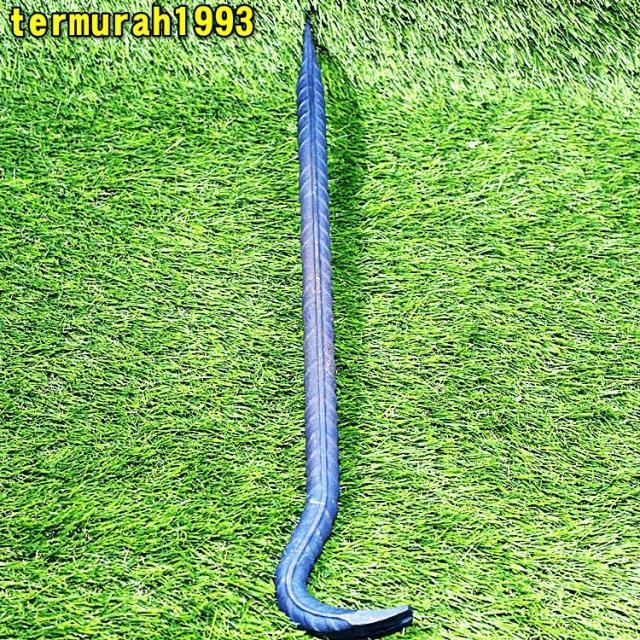Linggis: (273, 15, 427, 640)
